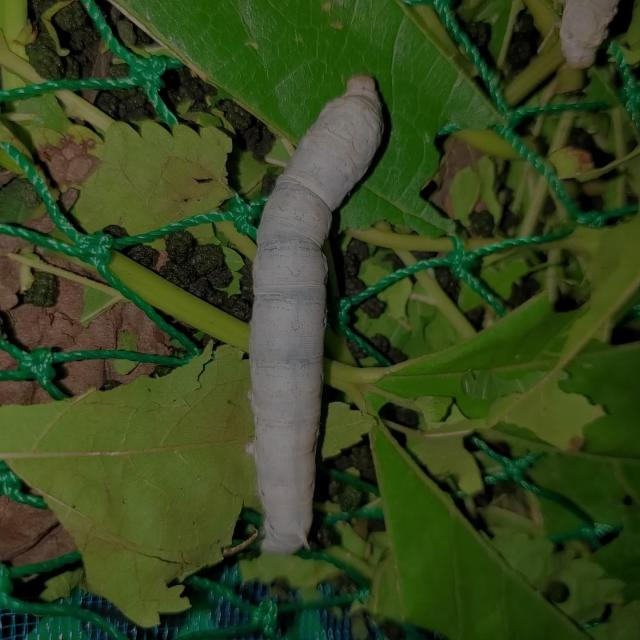Healthy: (222, 57, 401, 564)
